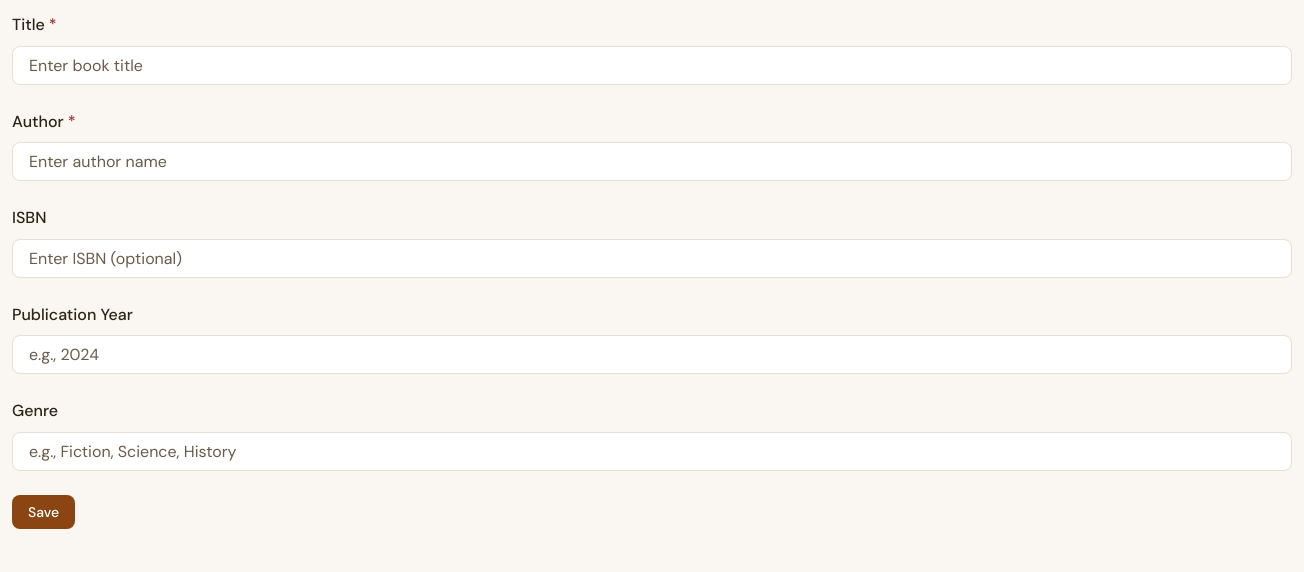
Test: BookForm Component › should show validation error for empty title on submit
The image size is (1304, 572).
Type "Test Author" into the field with test id "author-input". click: (652, 162)
box: 12,142 -> 1292,181
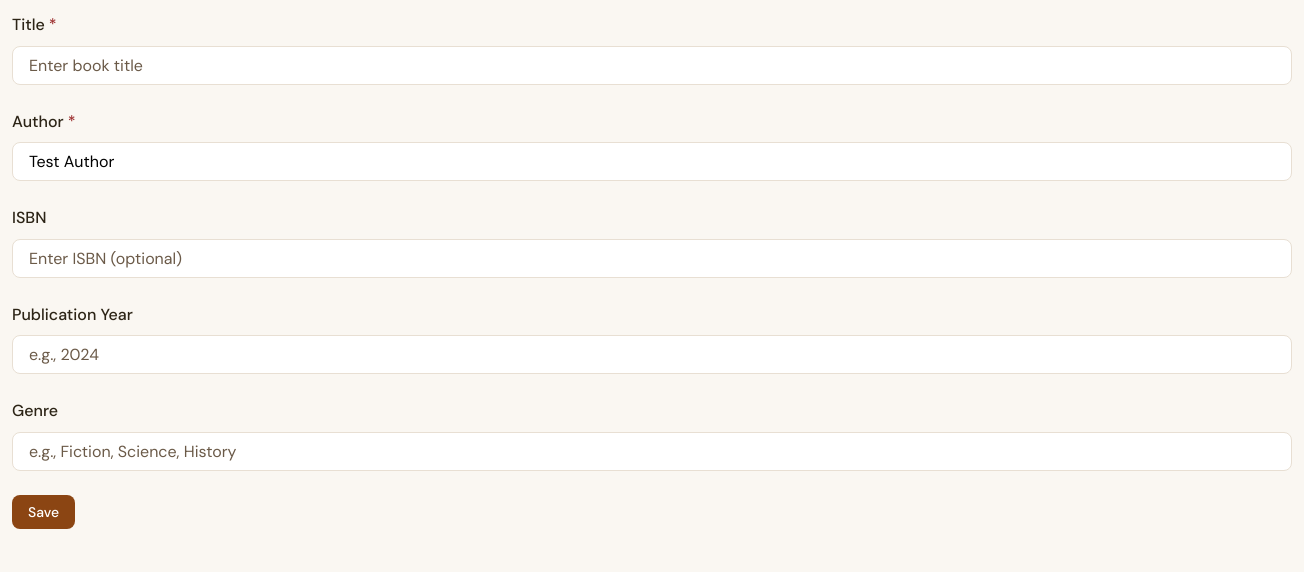
Click the button with test id "submit-btn". click: (44, 512)
box: 12,495 -> 75,529
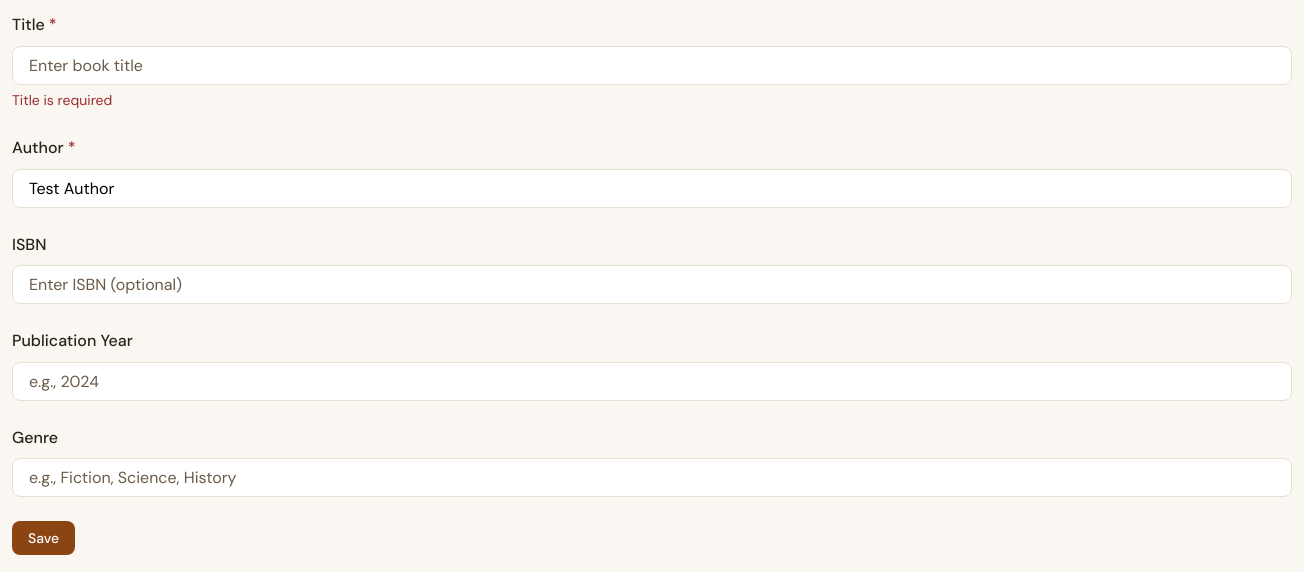
Result: the text "Title is required" is shown at 12,91 -> 112,109
